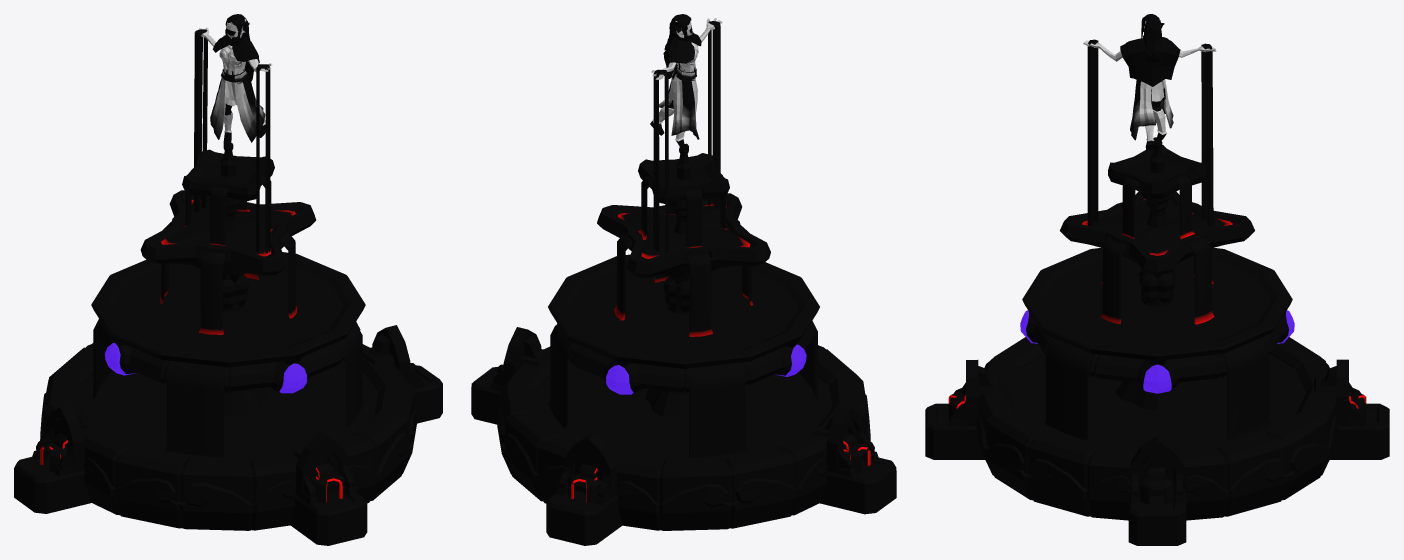
Rendered from SM_Prop_Fountain_01.fbx.
The picture shows the model from 3 angles, left to right: view 1: azimuth 30°, elevation 25°; view 2: azimuth 150°, elevation 25°; view 3: azimuth 270°, elevation 25°; orthographic projection.
Visible parts, largest first — view 1: SM_Prop_Fountain_01; view 2: SM_Prop_Fountain_01; view 3: SM_Prop_Fountain_01.
Part boxes in pixels (left/top/right/bottom): SM_Prop_Fountain_01: left=14, top=14, right=442, bottom=545; SM_Prop_Fountain_01: left=471, top=14, right=896, bottom=545; SM_Prop_Fountain_01: left=925, top=14, right=1389, bottom=545.
Bounding box in the file's own units: 640 × 661 × 640.
